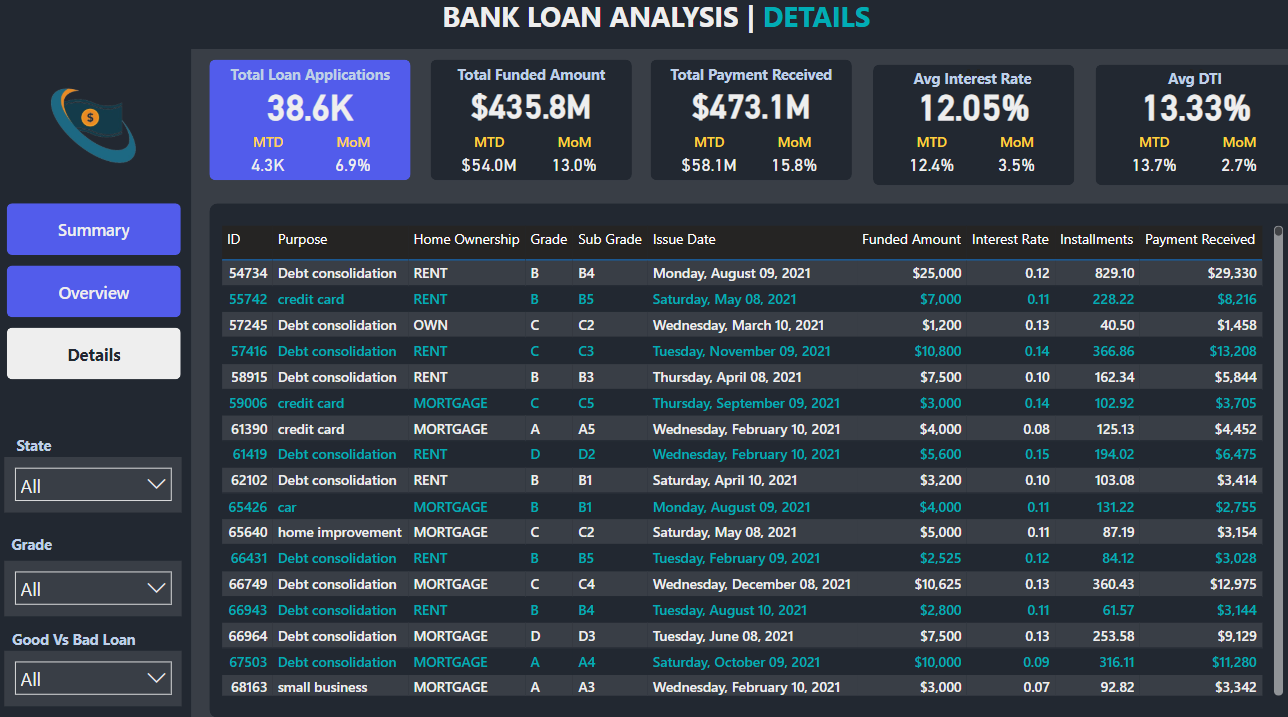

The dashboard page shown, as its layout file describes it:
{"tool":"powerbi","page":{"name":"Details","canvas":[1280,720],"ordinal":2},"visuals":[{"type":"shape","box":[0,0,1280.2,55],"z":0},{"type":"shape","box":[208.8,64.6,194.4,116.6],"z":0,"group":"g1"},{"type":"shape","box":[422,64.6,194.4,116.6],"z":0,"group":"g2"},{"type":"shape","box":[635.2,64.6,194.4,116.6],"z":0,"group":"g5"},{"type":"shape","box":[849.6,69.2,194.4,116.6],"z":0,"group":"g3"},{"type":"shape","box":[1063.9,69.2,194.4,116.6],"z":0,"group":"g4"},{"type":"card","fields":{"Values":["Measures Table.Total Loan Applications"]},"box":[208.8,81.9,194.4,53.3],"z":1000,"group":"g1"},{"type":"card","fields":{"Values":["Measures Table.Total Funded Amount"]},"box":[422,81.9,194.4,53.3],"z":1000,"group":"g2"},{"type":"card","fields":{"Values":["Measures Table.Total Payment Received"]},"box":[635.2,81.9,194.4,53.3],"z":1000,"group":"g5"},{"type":"card","fields":{"Values":["Measures Table.Avg Interest Rate"]},"box":[849.3,81.9,194.4,53.3],"z":1000,"group":"g3"},{"type":"card","fields":{"Values":["Measures Table.Avg DTI"]},"box":[1063.6,81.9,194.4,53.3],"z":1000,"group":"g4"},{"type":"shape","box":[208.8,204.5,1048.3,496.8],"z":1000},{"type":"shape","box":[0,54.7,191.5,665.3],"z":2000},{"type":"textbox","box":[208.8,64.6,194.4,40.3],"z":2000,"group":"g1"},{"type":"textbox","box":[422,64.6,194.4,40.3],"z":2000,"group":"g2"},{"type":"textbox","box":[635.2,64.6,194.4,40.3],"z":2000,"group":"g5"},{"type":"textbox","box":[849.3,64.6,194.4,40.3],"z":2000,"group":"g3"},{"type":"textbox","box":[1063.6,64.6,194.4,40.3],"z":2000,"group":"g4"},{"type":"card","title":"MTD","fields":{"Values":["Measures Table.MTD Loan Applications"]},"box":[224.6,135.2,82.1,47.5],"z":3000,"group":"g1"},{"type":"card","title":"MTD","fields":{"Values":["Measures Table.MTD Funded Amount"]},"box":[437.8,135.2,82.1,47.5],"z":3000,"group":"g2"},{"type":"card","title":"MTD","fields":{"Values":["Measures Table.MTD Payment Received"]},"box":[651,135.2,82.1,47.5],"z":3000,"group":"g5"},{"type":"card","title":"MTD","fields":{"Values":["Measures Table.MTD Interest Rate"]},"box":[865.2,135.2,82.1,47.5],"z":3000,"group":"g3"},{"type":"card","title":"MTD","fields":{"Values":["Measures Table.MTD DTI"]},"box":[1079.5,135.2,82.1,47.5],"z":3000,"group":"g4"},{"type":"textbox","box":[11.5,423.4,54.7,36],"z":3000},{"type":"textbox","box":[0,0,1280.2,54.7],"z":4000},{"type":"card","title":"MoM","fields":{"Values":["Measures Table.MoM Loan Application"]},"box":[306.7,135.2,82.1,47.5],"z":4000,"group":"g1"},{"type":"card","title":"MoM","fields":{"Values":["Measures Table.MoM Funded Amount"]},"box":[519.9,135.2,82.1,47.5],"z":4000,"group":"g2"},{"type":"card","title":"MoM","fields":{"Values":["Measures Table.MoM Payment Received"]},"box":[733.1,135.2,82.1,47.5],"z":4000,"group":"g5"},{"type":"card","title":"MoM","fields":{"Values":["Measures Table.MoM Interest Rate"]},"box":[947.2,135.2,82.1,47.5],"z":4000,"group":"g3"},{"type":"card","title":"MoM","fields":{"Values":["Measures Table.MoM DTI"]},"box":[1161.5,135.2,82.1,47.5],"z":4000,"group":"g4"},{"type":"group","id":"g1","title":"Total Loan Application","box":[208.8,64.6,194.4,118.1],"z":5000},{"type":"textbox","box":[848.4,68.1,194.4,40.3],"z":5000,"group":"g3"},{"type":"textbox","box":[1062.7,68.1,194.4,40.3],"z":5000,"group":"g4"},{"type":"group","id":"g2","title":"Total Funded Amount","box":[422,64.6,194.4,118.1],"z":6000},{"type":"group","id":"g3","title":"Avg Interest Rate","box":[848.4,64.6,195.6,121.2],"z":7000},{"type":"group","id":"g4","title":"Avg DTI","box":[1062.7,64.6,195.8,121],"z":8000},{"type":"group","id":"g5","title":"Total Payment Received","box":[635.2,64.6,194.4,118.1],"z":9000},{"type":"slicer","fields":{"Values":["bank_loan_data.address_state"]},"box":[10.4,449.3,171.4,53.3],"z":10000},{"type":"textbox","box":[8.6,518.4,57.6,47.5],"z":11000},{"type":"slicer","fields":{"Values":["bank_loan_data.grade"]},"box":[10.4,548.6,171.4,53.3],"z":12000},{"type":"textbox","box":[7.2,610.6,141.1,36],"z":13000},{"type":"slicer","fields":{"Values":["bank_loan_data.Good vs Bad Loan"]},"box":[10.4,636.3,171.4,53.3],"z":14000},{"type":"tableEx","fields":{"Values":["bank_loan_data.id","bank_loan_data.purpose","bank_loan_data.home_ownership","bank_loan_data.grade","bank_loan_data.sub_grade","bank_loan_data.issue_date","Measures Table.Total Funded Amount","Sum(bank_loan_data.int_rate)","Sum(bank_loan_data.installment)","Measures Table.Total Payment Received"]},"box":[214.6,220.3,1035.4,463.7],"z":15000},{"type":"image","box":[1.4,54.7,191.5,149.8],"z":16000},{"type":"pageNavigator","box":[13,204.5,168.5,172.8],"z":17000}]}

Visuals, with their boxes in screenshot pixels (x1, y1, x2, y2), scaled from the page's 1280x720 canvas onto the 1288x717 screenshot:
shape: [left=0, top=0, right=1287, bottom=55]
shape: [left=210, top=64, right=406, bottom=180]
shape: [left=425, top=64, right=620, bottom=180]
shape: [left=639, top=64, right=835, bottom=180]
shape: [left=855, top=69, right=1051, bottom=185]
shape: [left=1071, top=69, right=1266, bottom=185]
card - Measures Table.Total Loan Applications: [left=210, top=82, right=406, bottom=135]
card - Measures Table.Total Funded Amount: [left=425, top=82, right=620, bottom=135]
card - Measures Table.Total Payment Received: [left=639, top=82, right=835, bottom=135]
card - Measures Table.Avg Interest Rate: [left=855, top=82, right=1050, bottom=135]
card - Measures Table.Avg DTI: [left=1070, top=82, right=1266, bottom=135]
shape: [left=210, top=204, right=1265, bottom=698]
shape: [left=0, top=54, right=193, bottom=716]
textbox: [left=210, top=64, right=406, bottom=104]
textbox: [left=425, top=64, right=620, bottom=104]
textbox: [left=639, top=64, right=835, bottom=104]
textbox: [left=855, top=64, right=1050, bottom=104]
textbox: [left=1070, top=64, right=1266, bottom=104]
"MTD" card: [left=226, top=135, right=309, bottom=182]
"MTD" card: [left=441, top=135, right=523, bottom=182]
"MTD" card: [left=655, top=135, right=738, bottom=182]
"MTD" card: [left=871, top=135, right=953, bottom=182]
"MTD" card: [left=1086, top=135, right=1169, bottom=182]
textbox: [left=12, top=422, right=67, bottom=457]
textbox: [left=0, top=0, right=1287, bottom=54]
"MoM" card: [left=309, top=135, right=391, bottom=182]
"MoM" card: [left=523, top=135, right=606, bottom=182]
"MoM" card: [left=738, top=135, right=820, bottom=182]
"MoM" card: [left=953, top=135, right=1036, bottom=182]
"MoM" card: [left=1169, top=135, right=1251, bottom=182]
"Total Loan Application" group: [left=210, top=64, right=406, bottom=182]
textbox: [left=854, top=68, right=1049, bottom=108]
textbox: [left=1069, top=68, right=1265, bottom=108]
"Total Funded Amount" group: [left=425, top=64, right=620, bottom=182]
"Avg Interest Rate" group: [left=854, top=64, right=1051, bottom=185]
"Avg DTI" group: [left=1069, top=64, right=1266, bottom=185]
"Total Payment Received" group: [left=639, top=64, right=835, bottom=182]
slicer - bank_loan_data.address_state: [left=10, top=447, right=183, bottom=501]
textbox: [left=9, top=516, right=67, bottom=564]
slicer - bank_loan_data.grade: [left=10, top=546, right=183, bottom=599]
textbox: [left=7, top=608, right=149, bottom=644]
slicer - bank_loan_data.Good vs Bad Loan: [left=10, top=634, right=183, bottom=687]
tableEx - bank_loan_data.id x bank_loan_data.purpose: [left=216, top=219, right=1258, bottom=681]
image: [left=1, top=54, right=194, bottom=204]
pageNavigator: [left=13, top=204, right=183, bottom=376]
